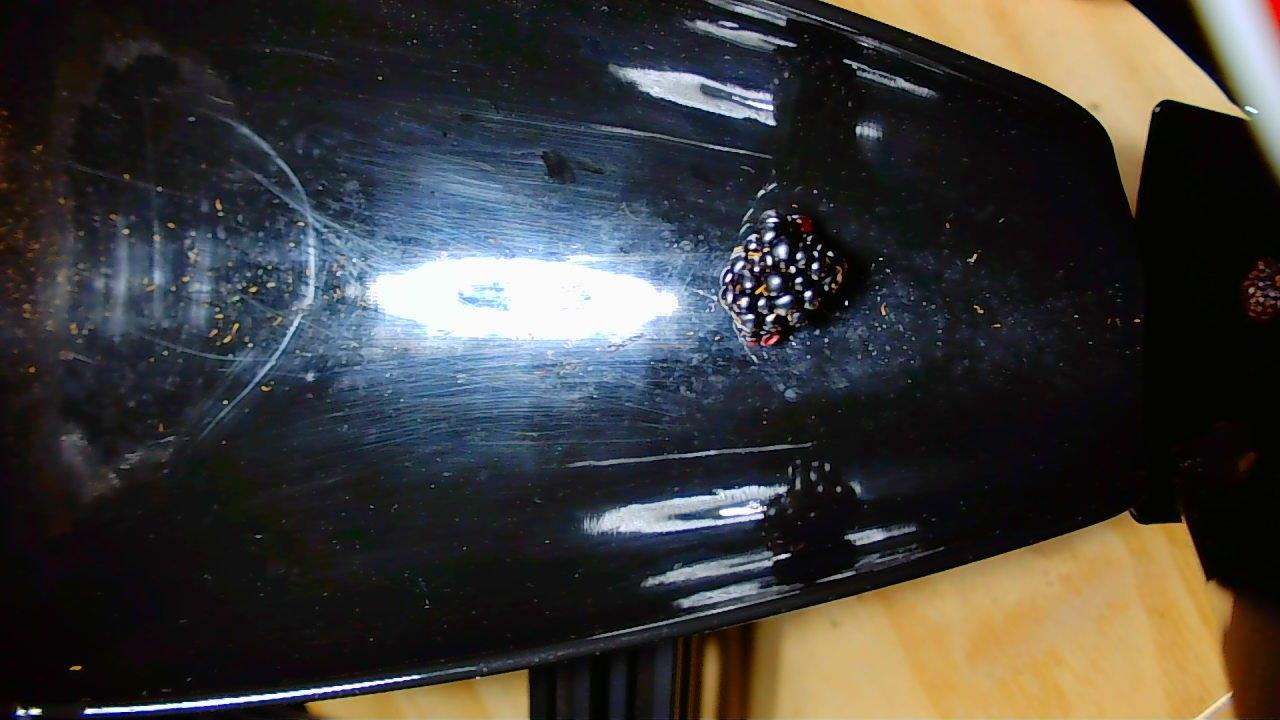berry: (722, 201, 850, 341)
